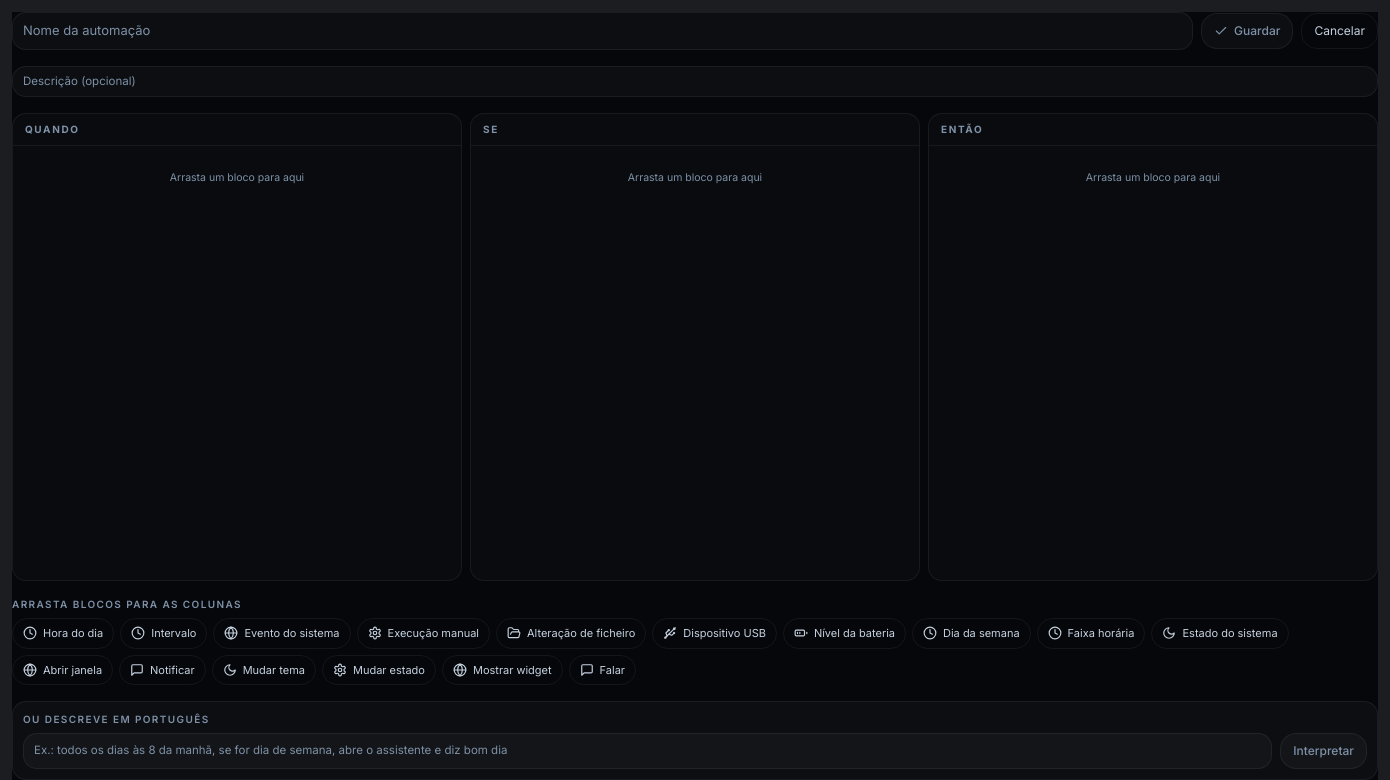
Test case: AutomationEditor — geração por linguagem natural › resposta sem JSON: mostra erro com o que o assistente disse
This screenshot has width=1390, height=780.
Type "faz uma coisa impossível" into the field named "Descrever automação em português" at (648, 751), box [23,733,1272,769]
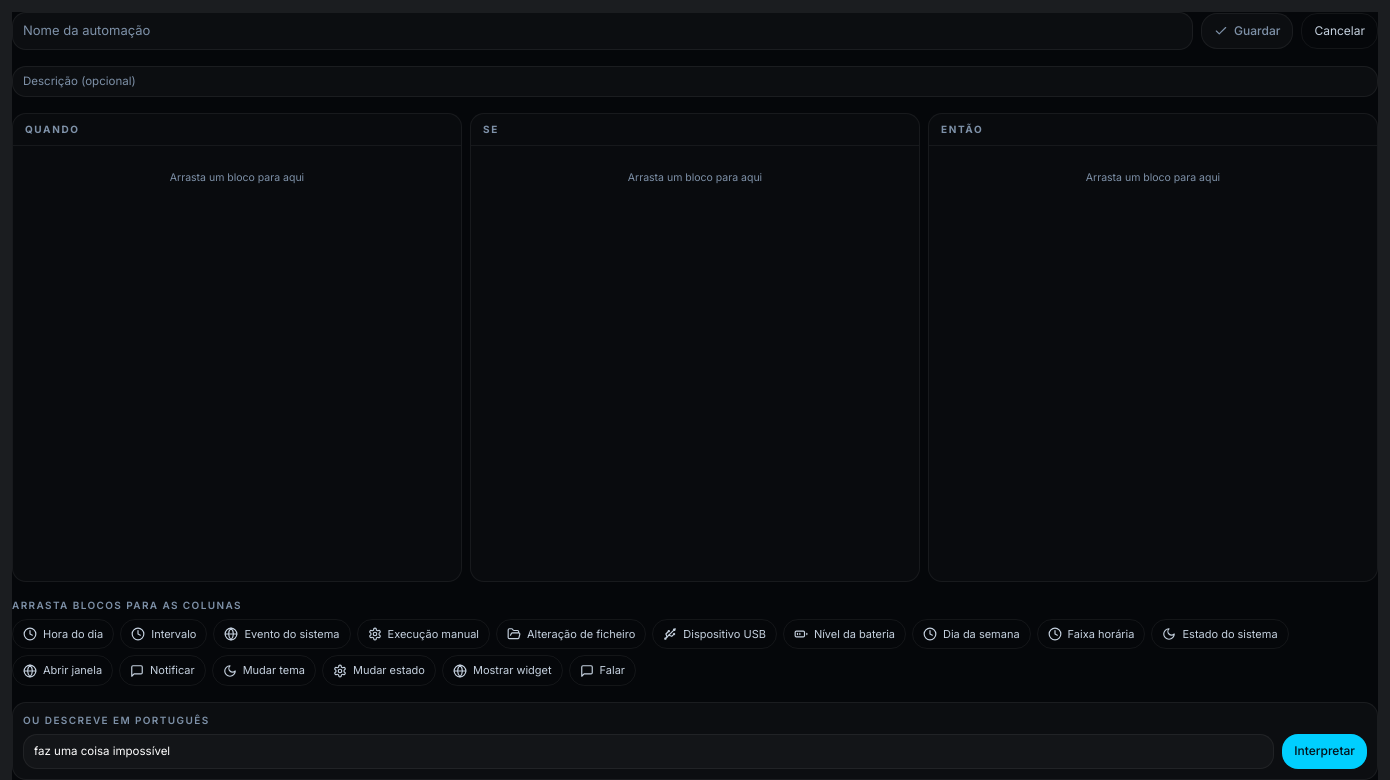
Click the button "Interpretar" at (1325, 751), box [1282,734,1367,769]
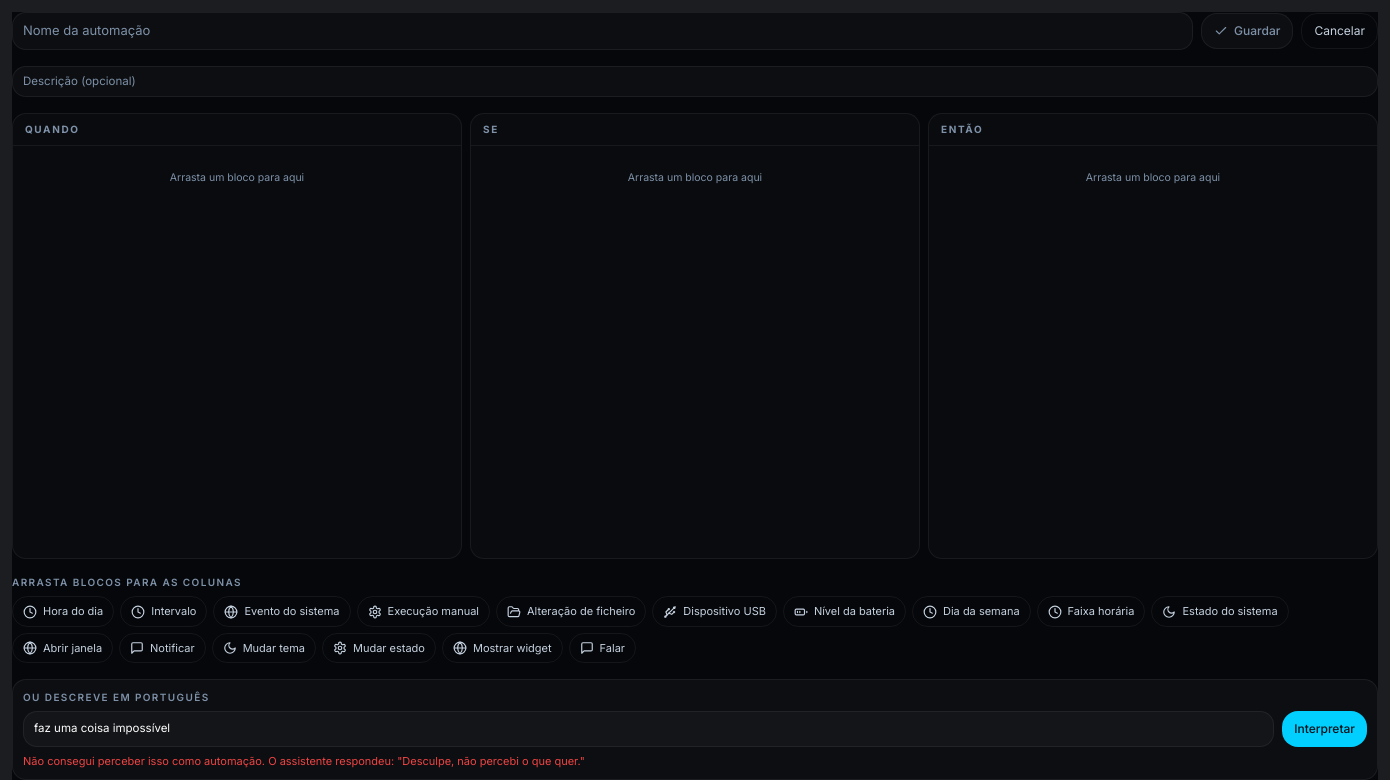
Now the message shows "Não consegui perceber", box [23,754,585,768]
Now the message shows "não percebi o que quer", box [23,754,585,768]
